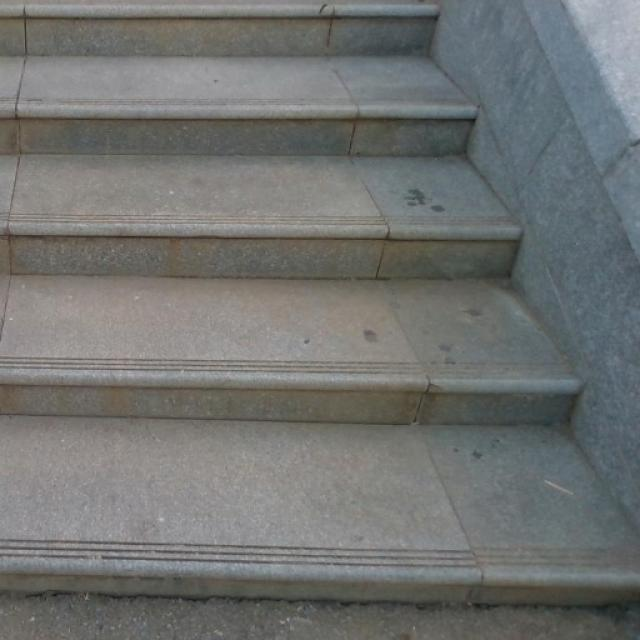Stairs: (0, 0, 639, 615)
